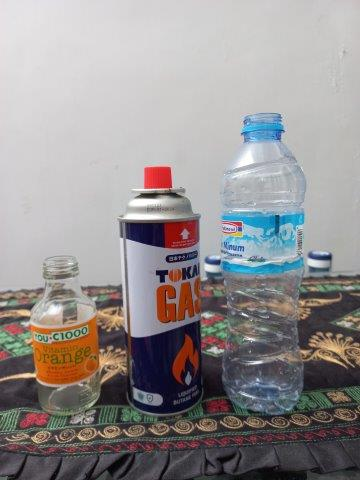botolkaca: (31, 257, 98, 412)
botolplastik: (221, 112, 306, 415)
kaleng: (119, 168, 201, 417)
